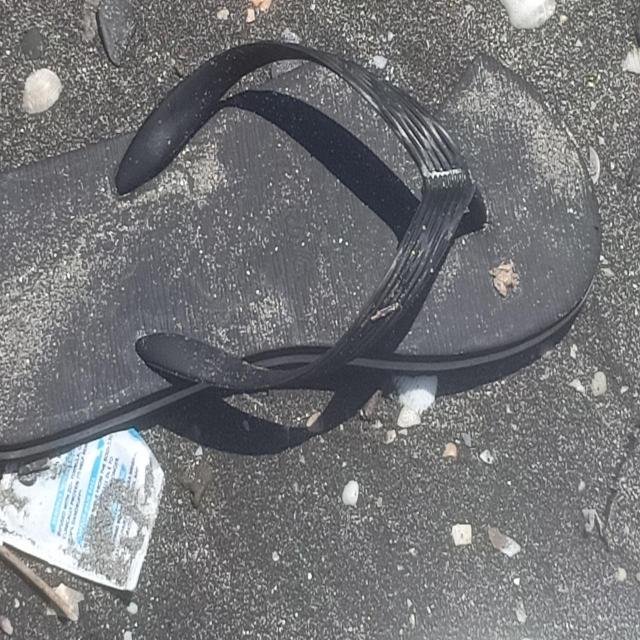plastic_waste: (1, 424, 166, 592)
rubber_waste: (1, 44, 601, 452)
